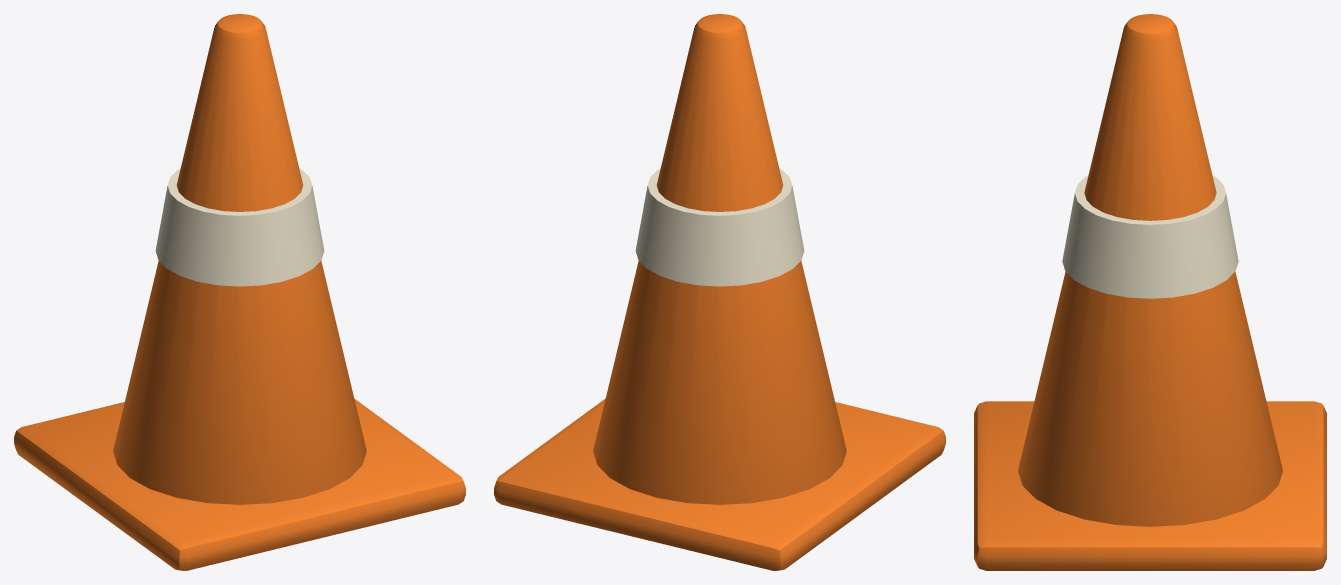
Rendered from TrafficCone.fbx.
The picture shows the model from 3 angles, left to right: view 1: azimuth 30°, elevation 25°; view 2: azimuth 150°, elevation 25°; view 3: azimuth 270°, elevation 25°; orthographic projection. The views are drawn at different scales.
Visible parts, largest first — view 1: Prop_TrafficCone; view 2: Prop_TrafficCone; view 3: Prop_TrafficCone.
Boxes of the visible parts, left/top/right/bottom form: Prop_TrafficCone: left=14, top=14, right=465, bottom=570; Prop_TrafficCone: left=494, top=14, right=945, bottom=570; Prop_TrafficCone: left=974, top=14, right=1326, bottom=570.
Size of the model in its own units: 0.42 by 0.63 by 0.42.
